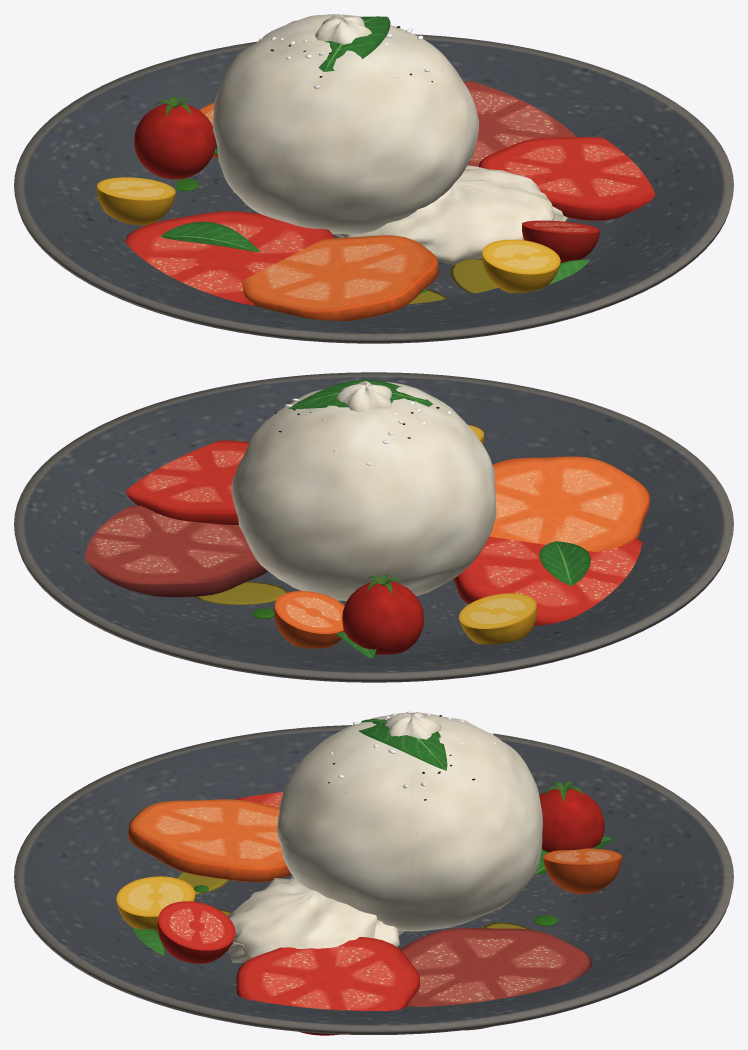
File: burrata.glb
The picture shows the model from 3 angles, top to bottom: view 1: azimuth 30°, elevation 25°; view 2: azimuth 150°, elevation 25°; view 3: azimuth 270°, elevation 25°; orthographic projection.
Parts seen in each view (by area): view 1: satin, ceramic, gloss; view 2: satin, ceramic, gloss; view 3: satin, ceramic, gloss.
Part boxes in pixels (x1=…): satin: x1=97, y1=14, x2=655, y2=320; ceramic: x1=14, y1=34, x2=733, y2=343; gloss: x1=134, y1=103, x2=497, y2=304; satin: x1=85, y1=380, x2=649, y2=657; ceramic: x1=14, y1=372, x2=733, y2=682; gloss: x1=195, y1=581, x2=423, y2=654; satin: x1=116, y1=711, x2=622, y2=1035; ceramic: x1=14, y1=725, x2=733, y2=1034; gloss: x1=177, y1=788, x2=604, y2=929.
Bounding box in the file's own units: 0.2277 × 0.0779 × 0.2277.
Materials: 4 (4 with a texture image).
